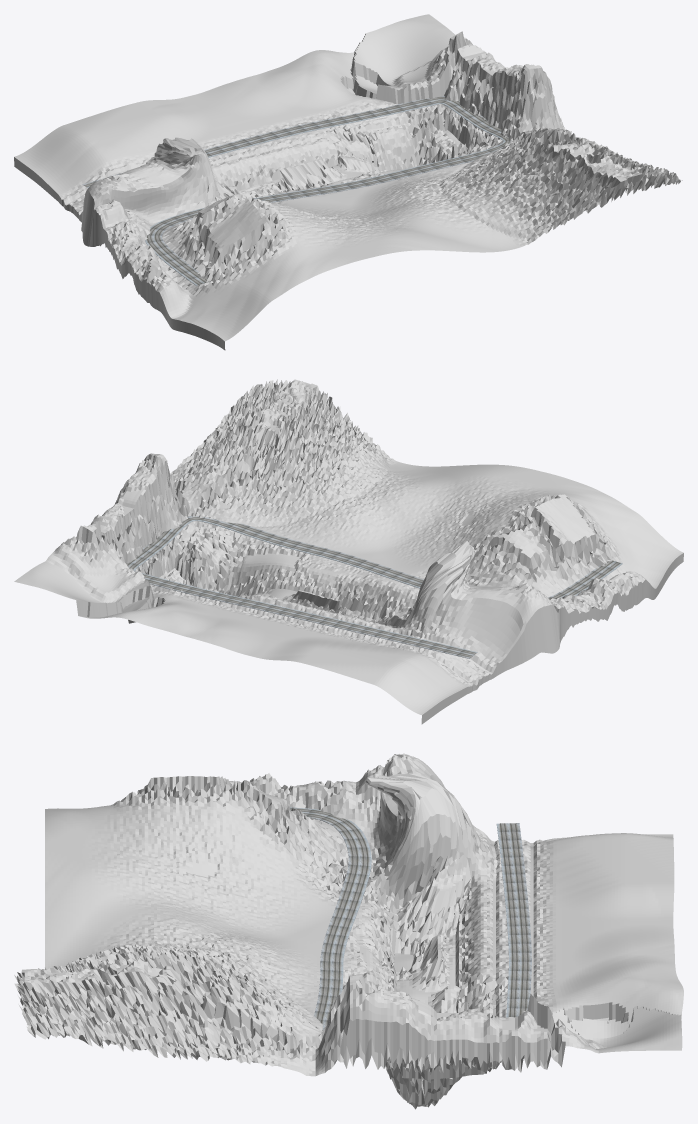
The picture shows the model from 3 angles, top to bottom: view 1: azimuth 30°, elevation 25°; view 2: azimuth 150°, elevation 25°; view 3: azimuth 270°, elevation 25°; orthographic projection. The views are drawn at different scales.
Visible parts, largest first — view 1: Plane, road_8x_10y_03z; view 2: Plane, road_8x_10y_03z; view 3: Plane, road_8x_10y_03z.
Boxes of the visible parts, bbox=[...] form: Plane: bbox=[14, 14, 682, 350]; road_8x_10y_03z: bbox=[82, 96, 511, 285]; Plane: bbox=[14, 379, 683, 724]; road_8x_10y_03z: bbox=[126, 514, 622, 658]; Plane: bbox=[14, 753, 683, 1109]; road_8x_10y_03z: bbox=[290, 807, 531, 1056].
Size of the model in its own units: 33603 by 9618 by 32144.
